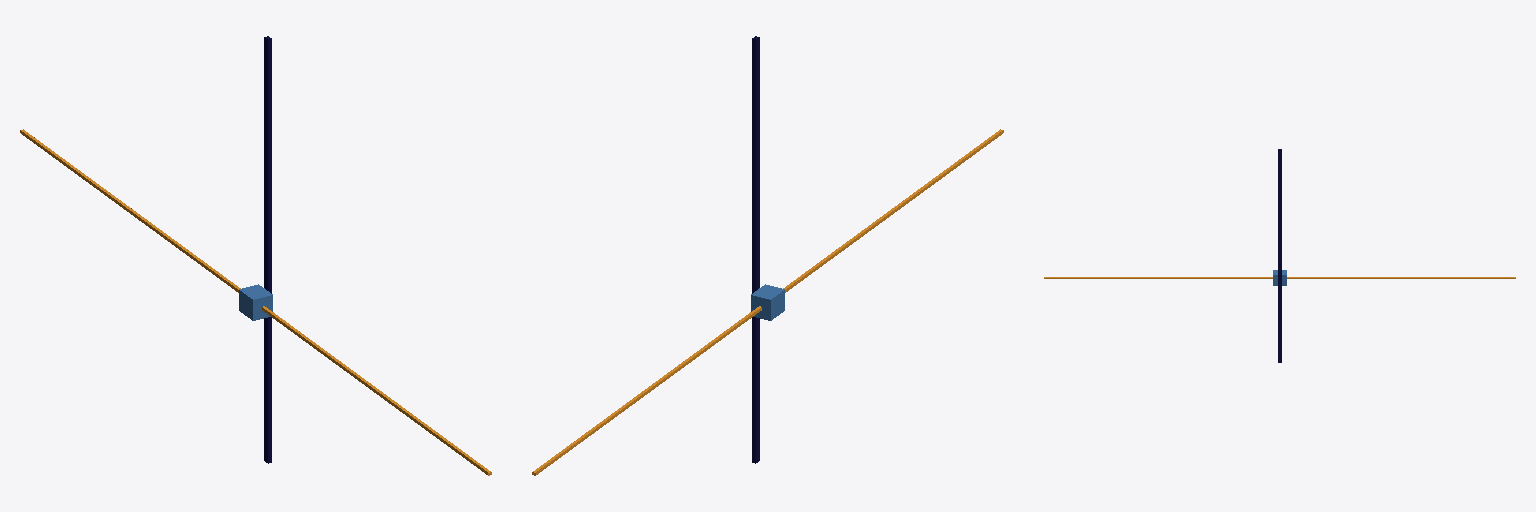
robot.urdf — cartpole:
<?xml version="1.0"?>
<robot name="cartpole">

    <link name="slider">
    <visual>
      <geometry>
        <box size="0.03 8 0.03"/>
      </geometry>
      <material name="slider_mat">
        <color rgba="0.9 0.6 0.2 1"/>
      </material>
    </visual>
    <collision>
      <geometry>
        <box size="0.03 8 0.03"/>
      </geometry>
    </collision>
  </link>

  <link name="cart">
    <visual>
      <geometry>
        <box size="0.2 0.25 0.2"/>
      </geometry>
      <material name="cart_mat">
        <color rgba="0.3 0.5 0.7 1"/>
      </material>
    </visual>
    <collision>
      <geometry>
          <box size="0.2 0.25 0.2"/>
      </geometry>
    </collision>
    <inertial>
      <mass value="1"/>
    </inertial>
  </link>

  <link name="pole">
    <visual>
      <geometry>
        <box size="0.04 0.06 4.0"/>	
      </geometry>
      <origin xyz="0 0 0.47"/>
      <material name="pole_mat">
        <color rgba="0.1 0.1 0.3 1"/>
      </material>
    </visual>
    <collision>
      <geometry>
        <box size="0.04 0.06 4.0"/>	
      </geometry>
      <origin xyz="0 0 0.47"/>
    </collision>
    <inertial>
      <mass value="1"/>
      <origin xyz="0 0 0.47"/>
    </inertial>
  </link>

  <joint name="slider_to_cart" type="prismatic">
    <axis xyz="0 1 0"/>
    <origin xyz="0 0 0"/>
    <parent link="slider"/>
    <child link="cart"/>
    <limit effort="1000.0" lower="-4" upper="4" velocity="100"/>
  </joint>

  <joint name="cart_to_pole" type="continuous">
    <axis xyz="1 0 0"/>
    <origin xyz="0.12 0 0"/>
    <parent link="cart"/>
    <child link="pole"/>
    <limit effort="1000.0" velocity="8"/>
  </joint>
  
</robot>

--- Facts derived from the render (not from the file) ---
Views: 3 orthographic renders of the robot side by side, from view 1: azimuth 30°, elevation 25°; view 2: azimuth 150°, elevation 25°; view 3: azimuth 270°, elevation 25°.
Model cartpole with 3 links and 2 joints (1 continuous, 1 prismatic), rooted at slider, posed all joints at 0.
Visible links, largest first — view 1: pole, slider, cart; view 2: pole, slider, cart; view 3: slider, pole.
Link boxes in pixels (box(x1,y1,x2,y2)): pole: box(264, 36, 271, 463); slider: box(20, 129, 491, 475); cart: box(239, 284, 272, 320); pole: box(752, 36, 759, 463); slider: box(532, 129, 1003, 475); cart: box(751, 284, 784, 320); slider: box(1044, 277, 1515, 278); pole: box(1278, 149, 1281, 362).
Bounding box of the posed robot: 0.24 × 8 × 4 m (x, y, z).
Geometry: primitives only (box / cylinder / sphere), no mesh files.
